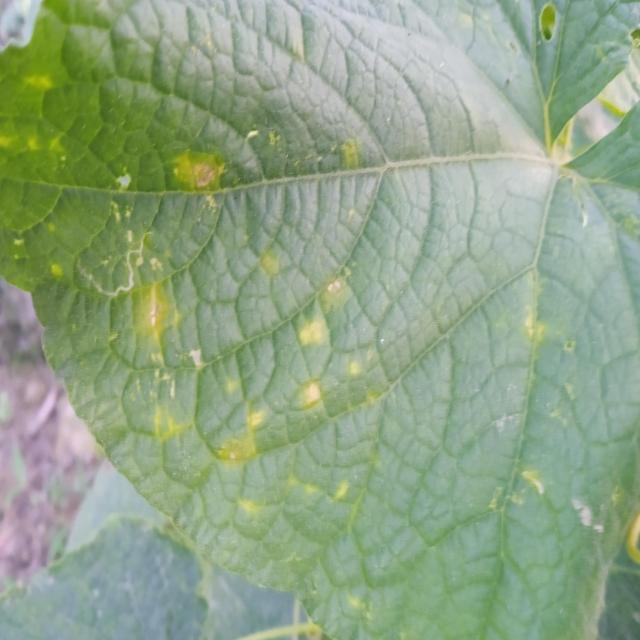cucumber_downy: (9, 3, 640, 598)
